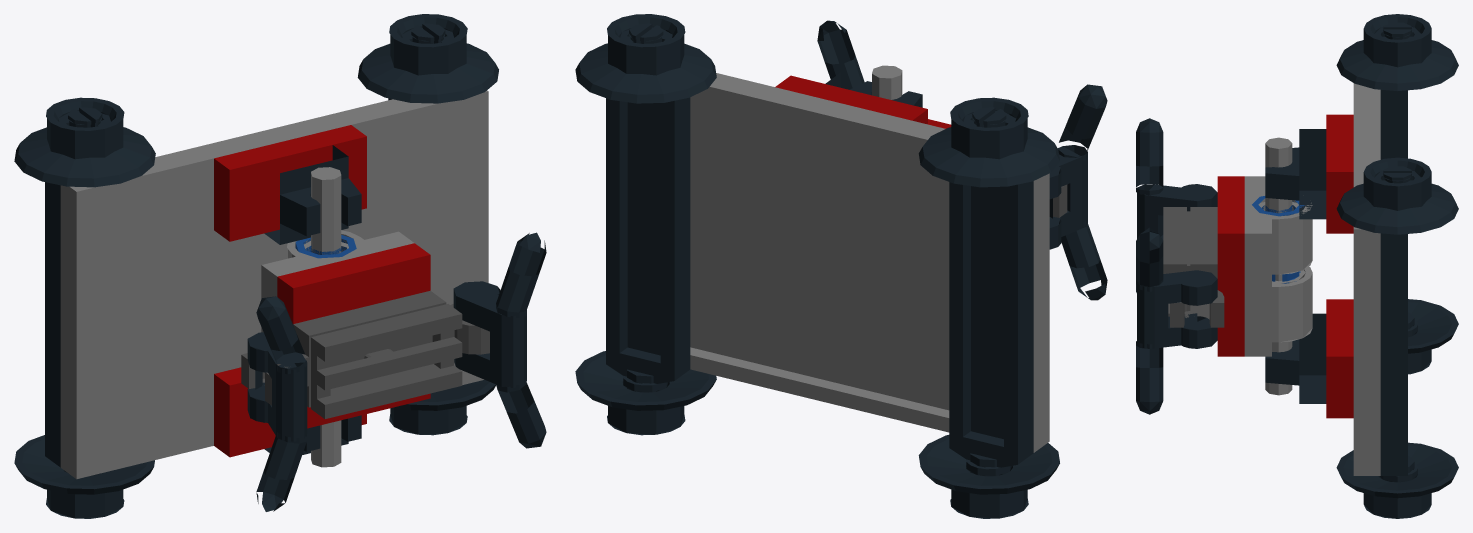
File: handcar.glb
3 renders of one model, left to right at view 1: azimuth 30°, elevation 25°; view 2: azimuth 150°, elevation 25°; view 3: azimuth 270°, elevation 25°, orthographic. The views are drawn at different scales.
Bounding box in the file's own units: 54.4 × 43.2 × 38.
